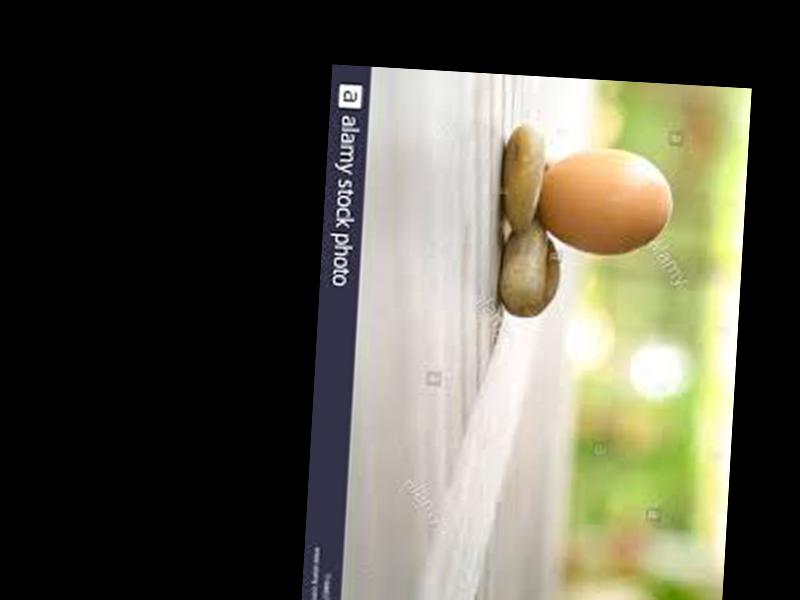Eggs: (536, 143, 673, 259)
